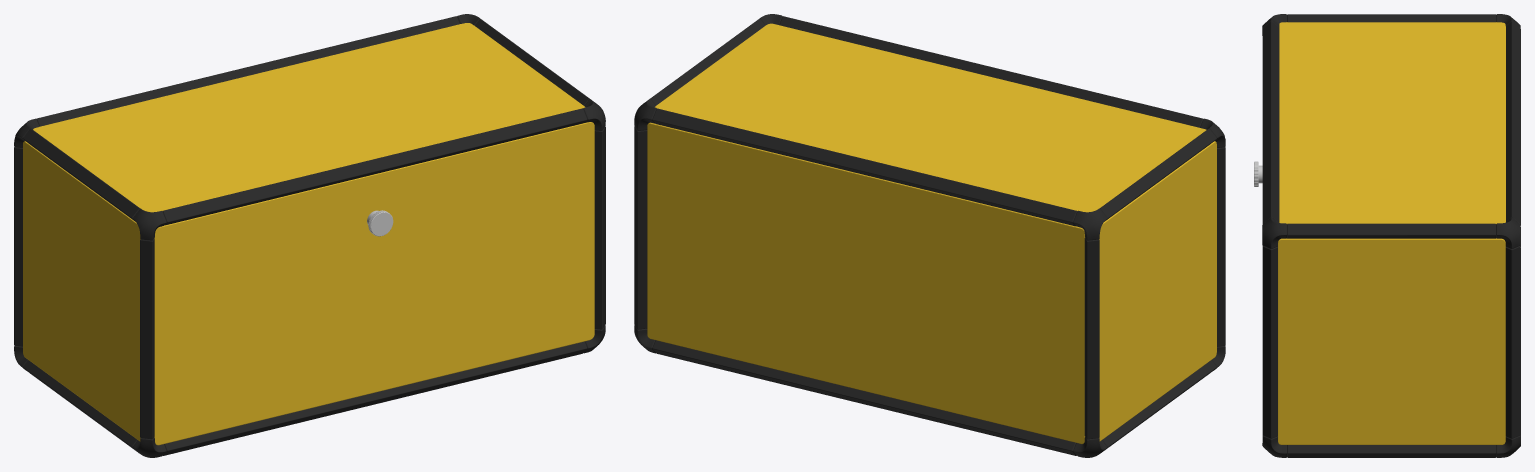
3 views of the same model, side by side, from view 1: azimuth 30°, elevation 25°; view 2: azimuth 150°, elevation 25°; view 3: azimuth 270°, elevation 25° (orthographic). The views are drawn at different scales.
Parts seen in each view (by area): view 1: 729x329x329; view 2: 729x329x329; view 3: 729x329x329.
Boxes of the visible parts, x1,y1,x2,y2 form: 729x329x329: (14,14,605,457); 729x329x329: (634,14,1225,457); 729x329x329: (1254,14,1520,457).
Bounding box in the file's own units: 0.8067 × 0.4067 × 0.4196.
